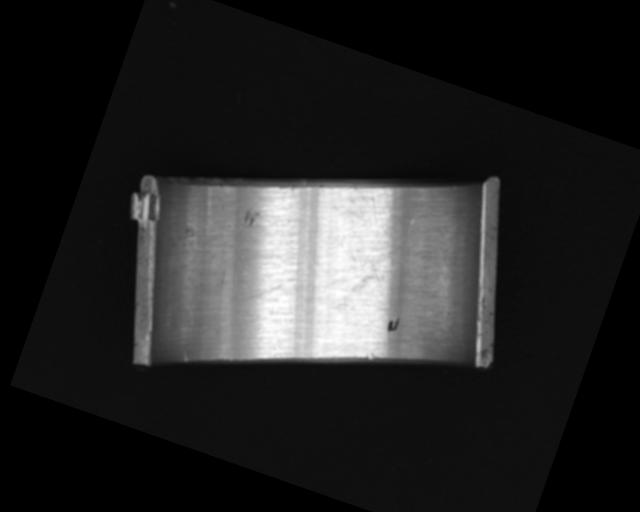blot: (342, 247, 395, 305), (384, 313, 401, 336)
bruise: (241, 205, 261, 228), (365, 352, 375, 361)
nick: (238, 261, 297, 315), (178, 349, 190, 363)
